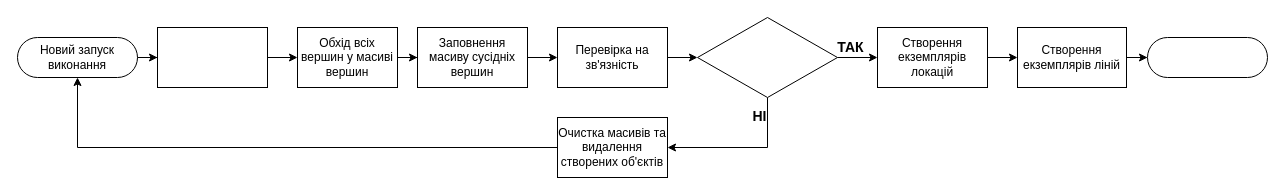
The diagram is 1285 pixels wide and 195 high, and some of its shapes have lost their labels. The centre of each missing label's shape, as x and y in pixels:
"Заповнення масиву вершин" goes at (212,57).
"Кінець виконання" goes at (1207,57).
"Перевірка пройдена?" goes at (767,57).
